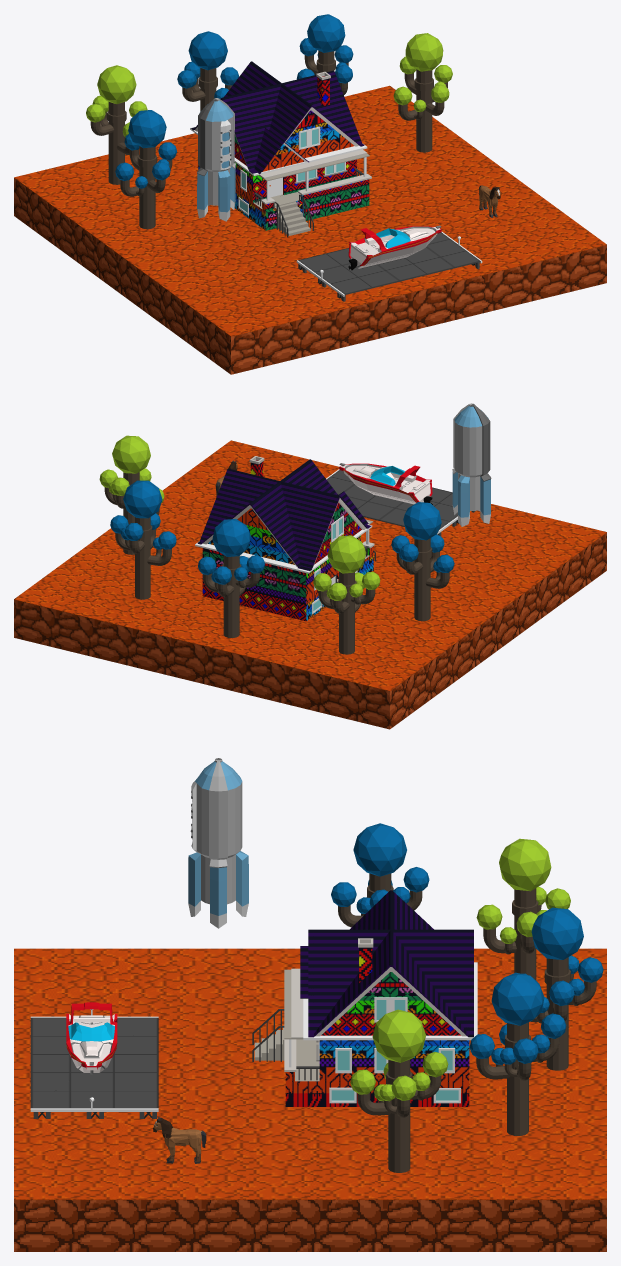
3 renders of one model, top to bottom at view 1: azimuth 30°, elevation 25°; view 2: azimuth 150°, elevation 25°; view 3: azimuth 270°, elevation 25°, orthographic. The views are drawn at different scales.
Parts seen in each view (by area): view 1: Cube.001, Cube.966, OBJRANDOM_ROCKETSHIP, VEHICLES_BOAT, ANIMAL_CABALLO; view 2: Cube.001, Cube.966, OBJRANDOM_ROCKETSHIP, VEHICLES_BOAT; view 3: Cube.001, Cube.966, OBJRANDOM_ROCKETSHIP, VEHICLES_BOAT, ANIMAL_CABALLO.
Boxes of the visible parts, bbox=[...] form: Cube.001: bbox=[14, 14, 606, 374]; Cube.966: bbox=[190, 61, 371, 237]; OBJRANDOM_ROCKETSHIP: bbox=[197, 98, 235, 221]; VEHICLES_BOAT: bbox=[348, 225, 441, 270]; ANIMAL_CABALLO: bbox=[479, 185, 500, 217]; Cube.001: bbox=[14, 435, 606, 729]; Cube.966: bbox=[195, 456, 375, 621]; OBJRANDOM_ROCKETSHIP: bbox=[452, 403, 491, 526]; VEHICLES_BOAT: bbox=[339, 463, 432, 504]; Cube.001: bbox=[14, 823, 606, 1251]; Cube.966: bbox=[252, 890, 477, 1106]; OBJRANDOM_ROCKETSHIP: bbox=[188, 758, 248, 928]; VEHICLES_BOAT: bbox=[66, 1002, 117, 1074]; ANIMAL_CABALLO: bbox=[153, 1117, 206, 1163].
Size of the model in its own units: 4000 by 2176 by 4000.
43 materials, 8 textured.
